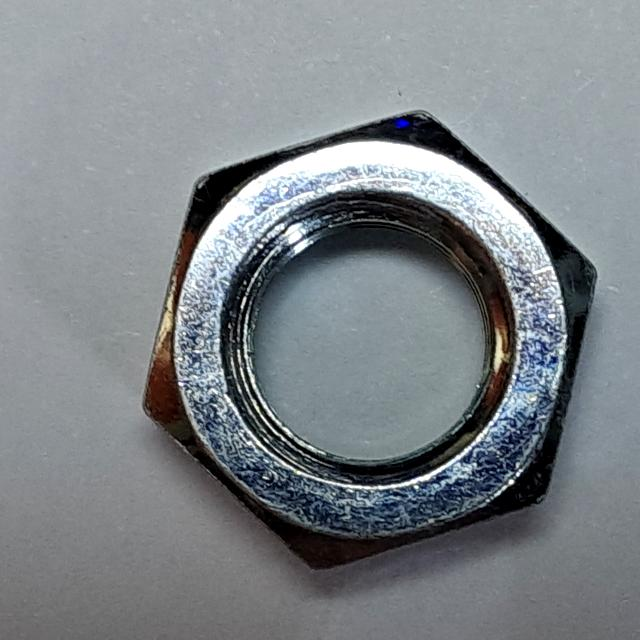Excellent: (121, 94, 614, 590)
